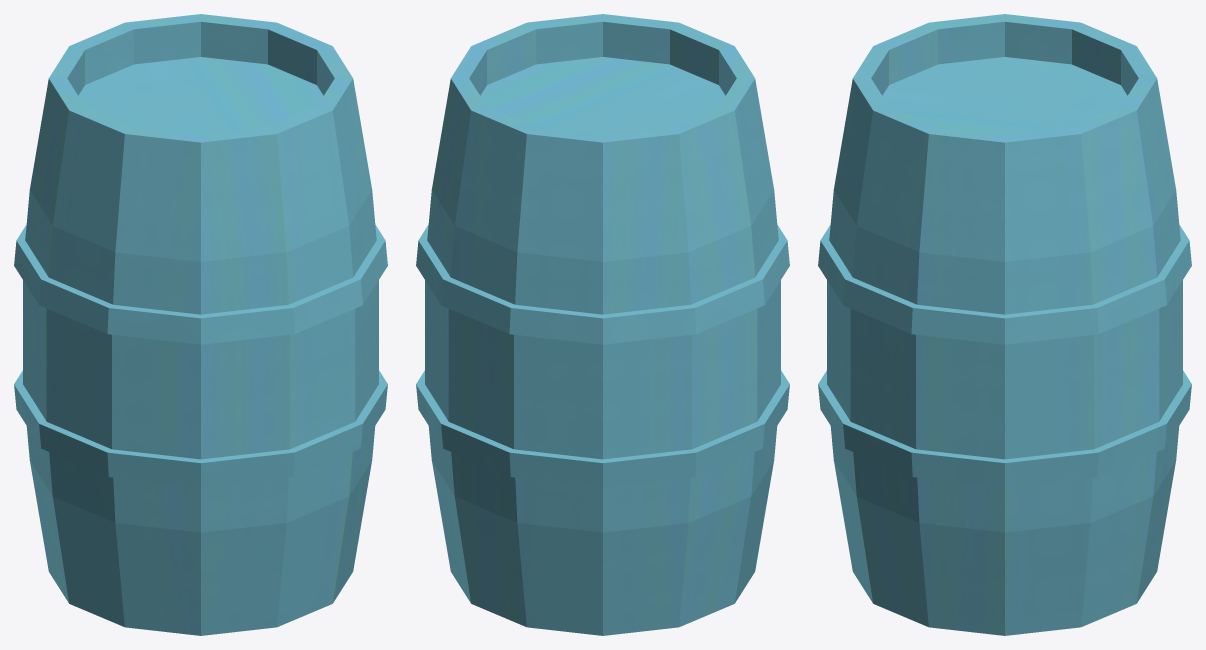
The model's file is entity21240.gltf.
3 renders of one model, left to right at view 1: azimuth 30°, elevation 25°; view 2: azimuth 150°, elevation 25°; view 3: azimuth 270°, elevation 25°, orthographic.
Visible parts, largest first — view 1: node_barrel_2; view 2: node_barrel_2; view 3: node_barrel_2.
Part boxes in pixels (box(x1,y1,x2,y2)): node_barrel_2: box(14, 14, 387, 635); node_barrel_2: box(416, 14, 789, 635); node_barrel_2: box(818, 14, 1191, 635).
Size of the model in its own units: 0.5307 by 0.7726 by 0.5307.
Materials: 1 (1 with a texture image).
